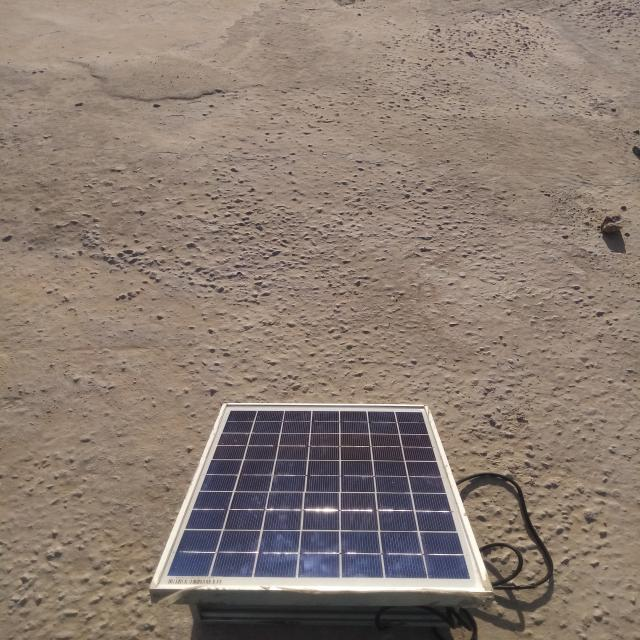no faulty: (152, 403, 490, 592)
